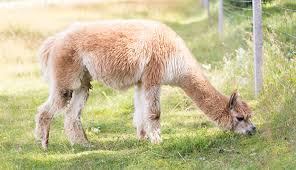alpaca: (36, 20, 259, 151)
